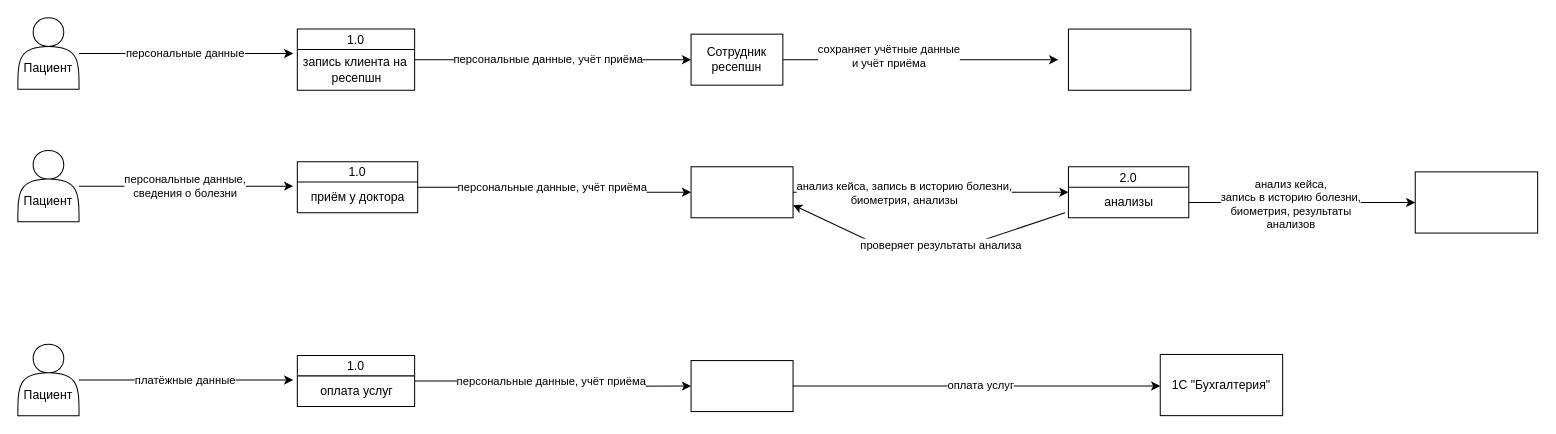
The diagram is 1556 pixels wide and 434 high, and some of its shapes have lost their labels. Each missing label, with the centre of its shape:
Excel: point (1129, 59)
Excel, JPEG, PDF --- Общий диск: point (1476, 202)
доктор: point (741, 192)
кассир: point (741, 386)
